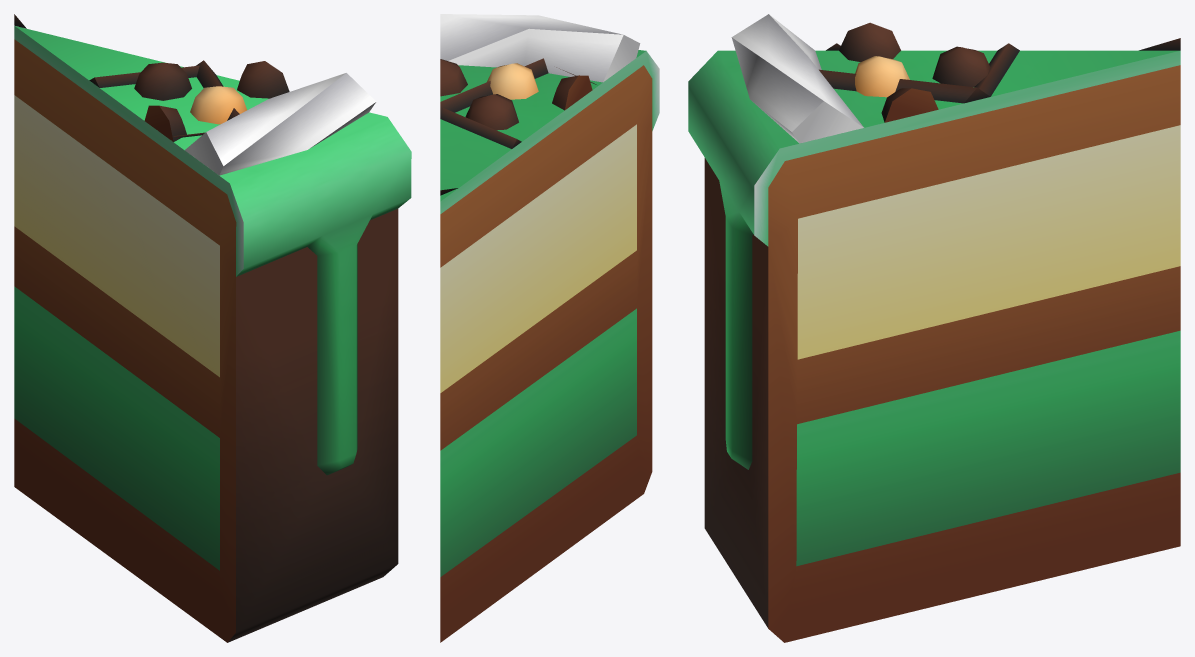
Rendered from m_MintCake01_Slice03.fbx.
3 views of the same model, side by side, from view 1: azimuth 30°, elevation 25°; view 2: azimuth 150°, elevation 25°; view 3: azimuth 270°, elevation 25° (orthographic). The views are drawn at different scales.
Parts seen in each view (by area): view 1: m_MintCake01_Slice03; view 2: m_MintCake01_Slice03; view 3: m_MintCake01_Slice03.
Part boxes in pixels (x1=…): m_MintCake01_Slice03: x1=14, y1=14, x2=411, y2=642; m_MintCake01_Slice03: x1=440, y1=14, x2=659, y2=642; m_MintCake01_Slice03: x1=688, y1=14, x2=1180, y2=642.
Bounding box in the file's own units: 6.52 × 15.54 × 13.04.
